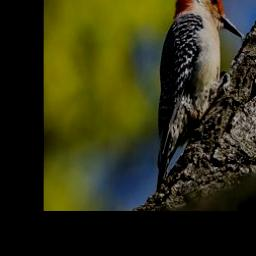Woodpecker: (157, 0, 247, 188)
